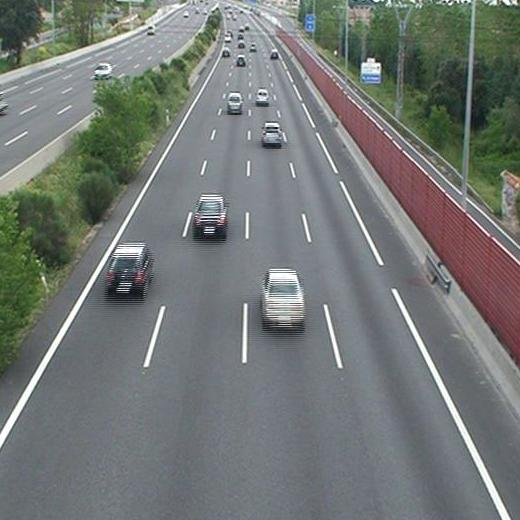car: (261, 270, 304, 326), (107, 245, 150, 292), (195, 196, 227, 234), (261, 123, 283, 145), (226, 94, 242, 113), (256, 89, 269, 104), (221, 47, 230, 57), (270, 49, 279, 58), (237, 56, 245, 66), (223, 34, 230, 42), (248, 43, 255, 50), (237, 41, 244, 48)
